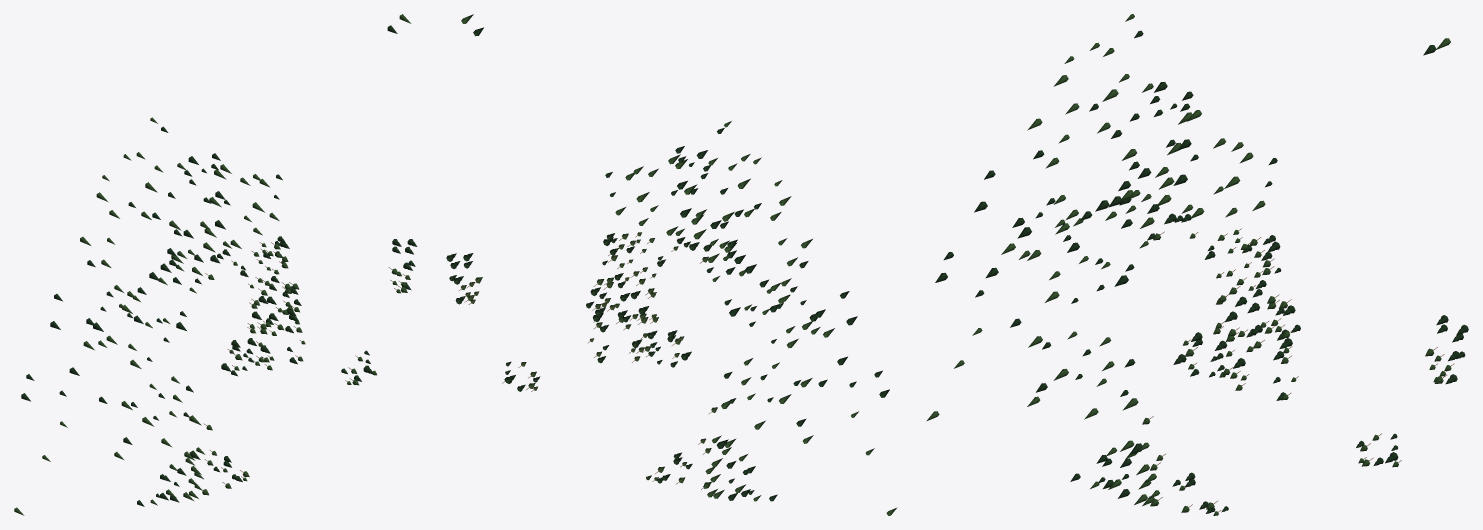
File: forest_3.obj
3 views of the same model, side by side, from view 1: azimuth 30°, elevation 25°; view 2: azimuth 150°, elevation 25°; view 3: azimuth 330°, elevation 25° (orthographic). The views are drawn at different scales.
Bounding box in the file's own units: 540 × 520 × 86.37.
